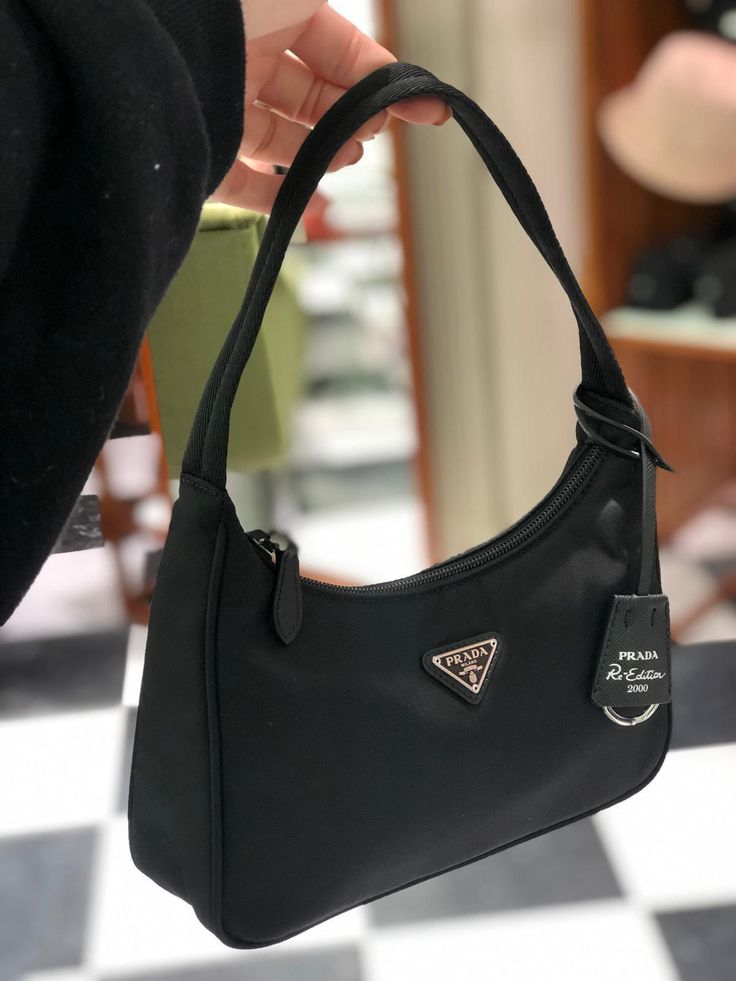nylon: (126, 62, 673, 948)
